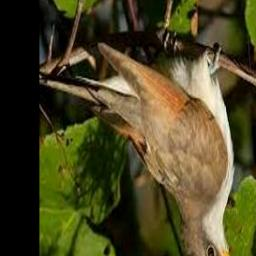Cuckoo: (77, 44, 245, 256)
